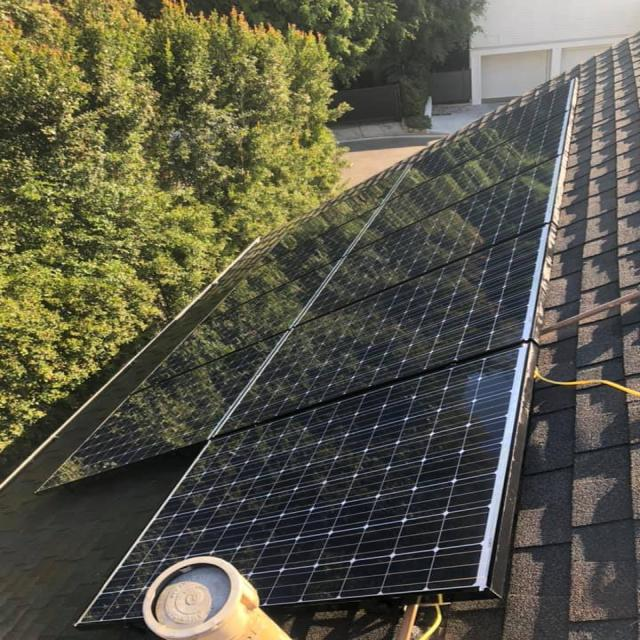clean-solar-panel: (42, 76, 575, 625)
